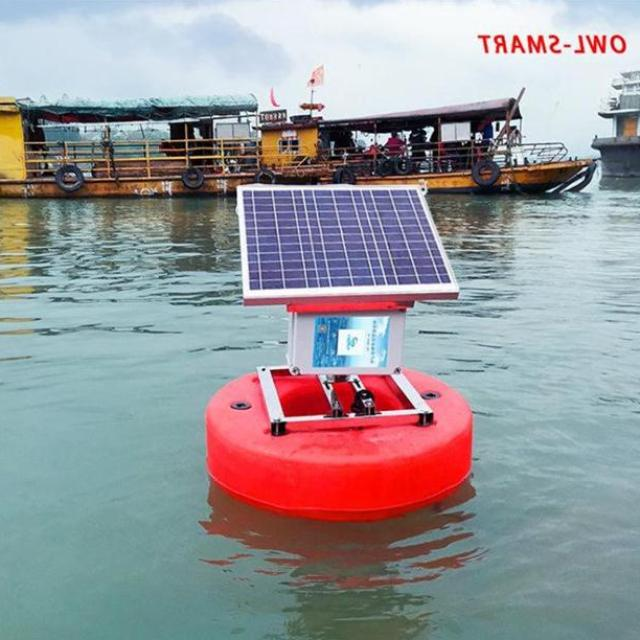buoy: (203, 179, 474, 515)
